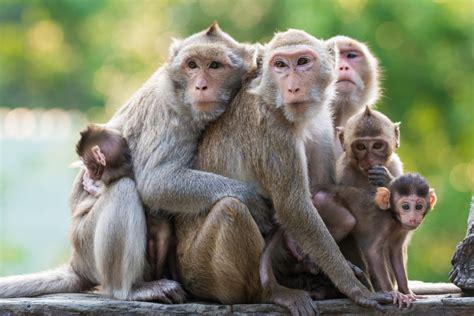monkey: (1, 31, 254, 302), (176, 32, 392, 316), (258, 175, 437, 301), (322, 35, 379, 125), (333, 110, 404, 179), (74, 124, 133, 195)
